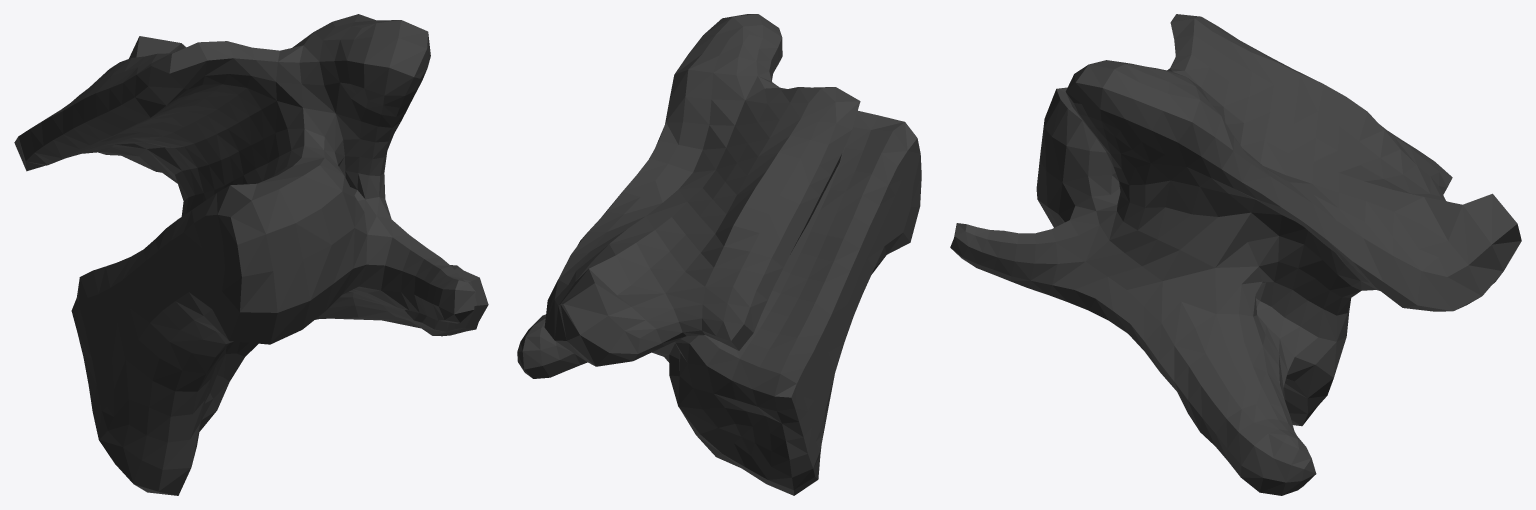
The picture shows the model from 3 angles, left to right: view 1: azimuth 30°, elevation 25°; view 2: azimuth 150°, elevation 25°; view 3: azimuth 270°, elevation 25°; orthographic projection. The views are drawn at different scales.
Visible parts, largest first — view 1: C3; view 2: C3; view 3: C3.
Part boxes in pixels (bbox=[...]): C3: bbox=[14, 14, 488, 495]; C3: bbox=[517, 14, 921, 495]; C3: bbox=[950, 14, 1521, 495].
Size of the model in its own units: 0.00849 by 0.0108 by 0.013.
Materials: 1 (1 with a texture image).
